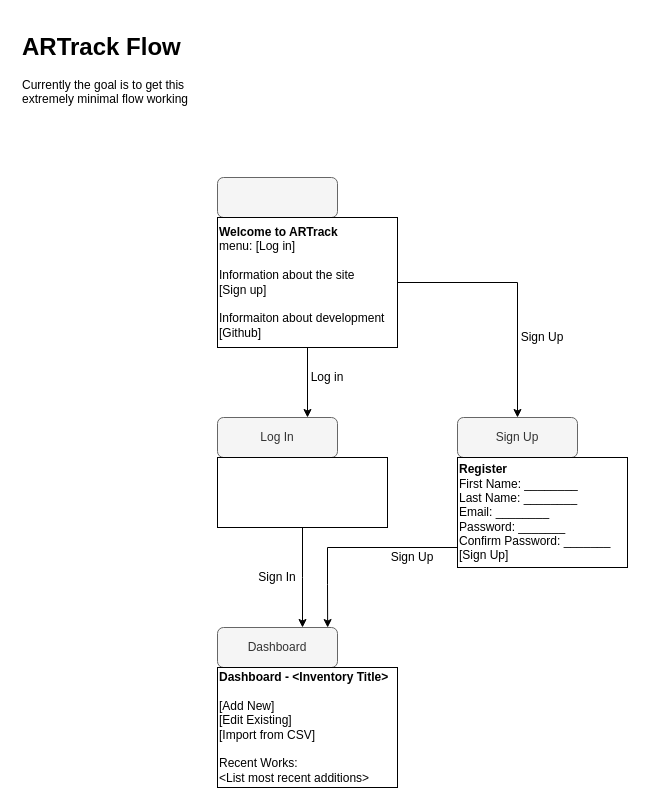
The diagram is 645 pixels wide and 805 high, and some of its shapes have lost their labels. The shapes that lost their labels are listed below. From the top down, each one's box as (x1, y1, x2, y2) in pixels, then its label:
(216, 176, 338, 218): Index
(216, 456, 388, 528): Log In Email: ________ Password: _______ [sign in]
